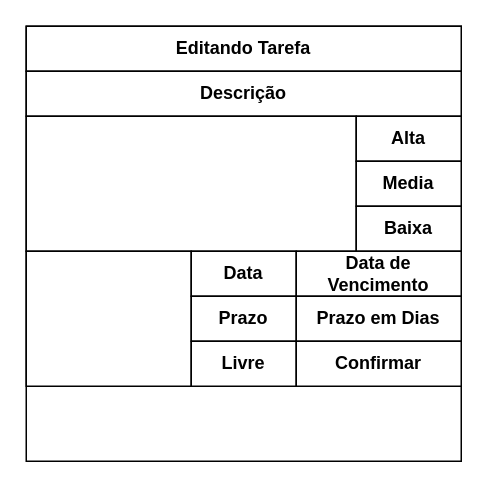
Image size: 488x488. Some labels were removed from this diagram. Each missing label, with the centre of its shape:
Prioridade: the point at 190,183
Tipo: the point at 108,318
